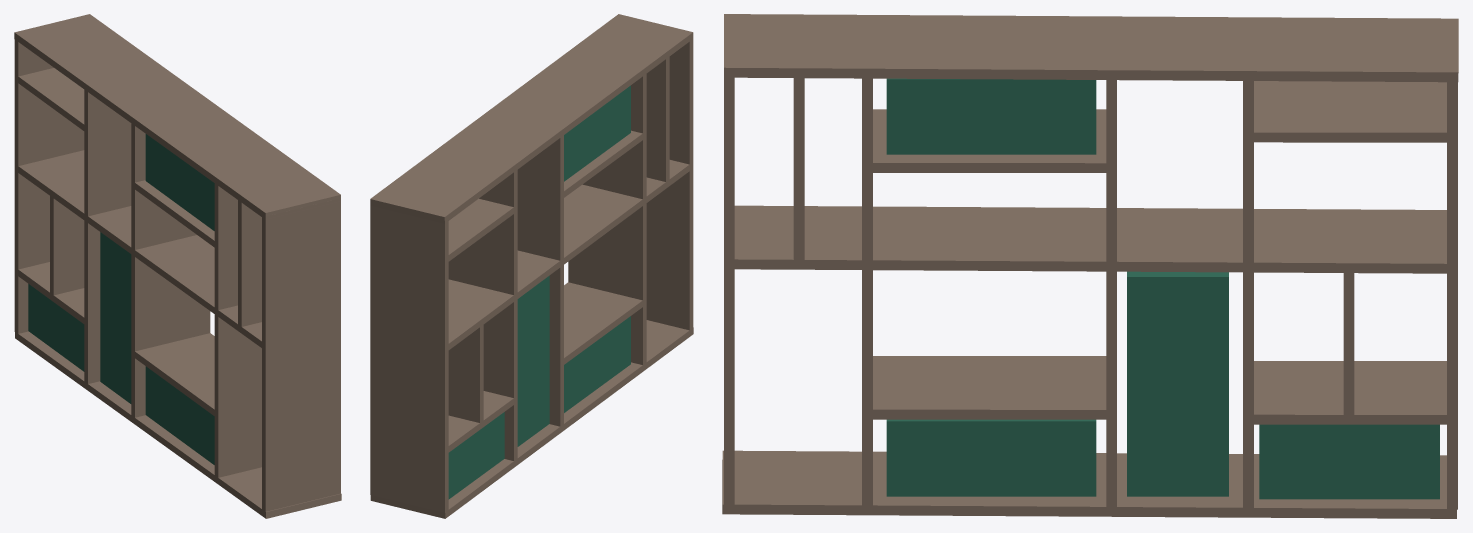
3 views of the same model, side by side, from view 1: azimuth 30°, elevation 25°; view 2: azimuth 150°, elevation 25°; view 3: azimuth 270°, elevation 25° (orthographic). The views are drawn at different scales.
Visible parts, largest first — view 1: pCube71; view 2: pCube71; view 3: pCube71.
Boxes of the visible parts, bbox=[...] form: pCube71: bbox=[14, 14, 341, 518]; pCube71: bbox=[370, 14, 693, 518]; pCube71: bbox=[722, 14, 1458, 518].
Size of the model in its own units: 52.83 by 207 by 305.
